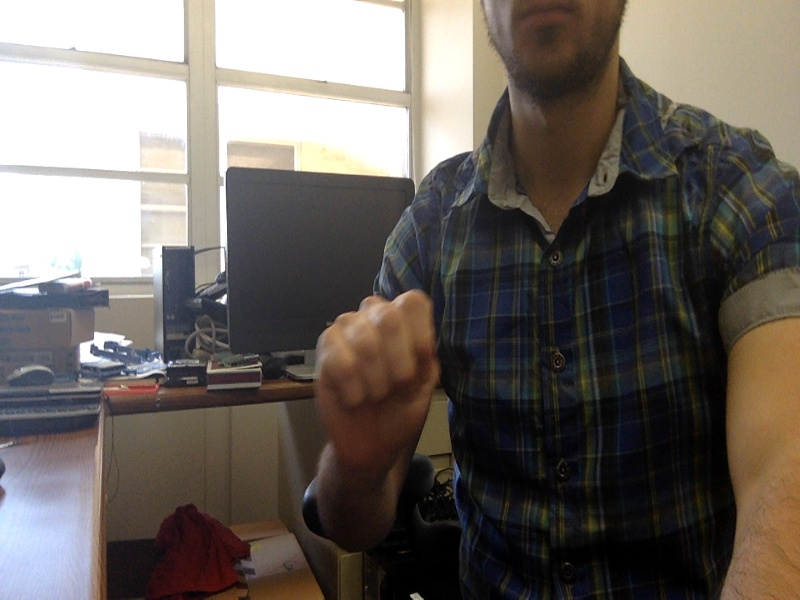0-hand: (310, 291, 444, 465)
